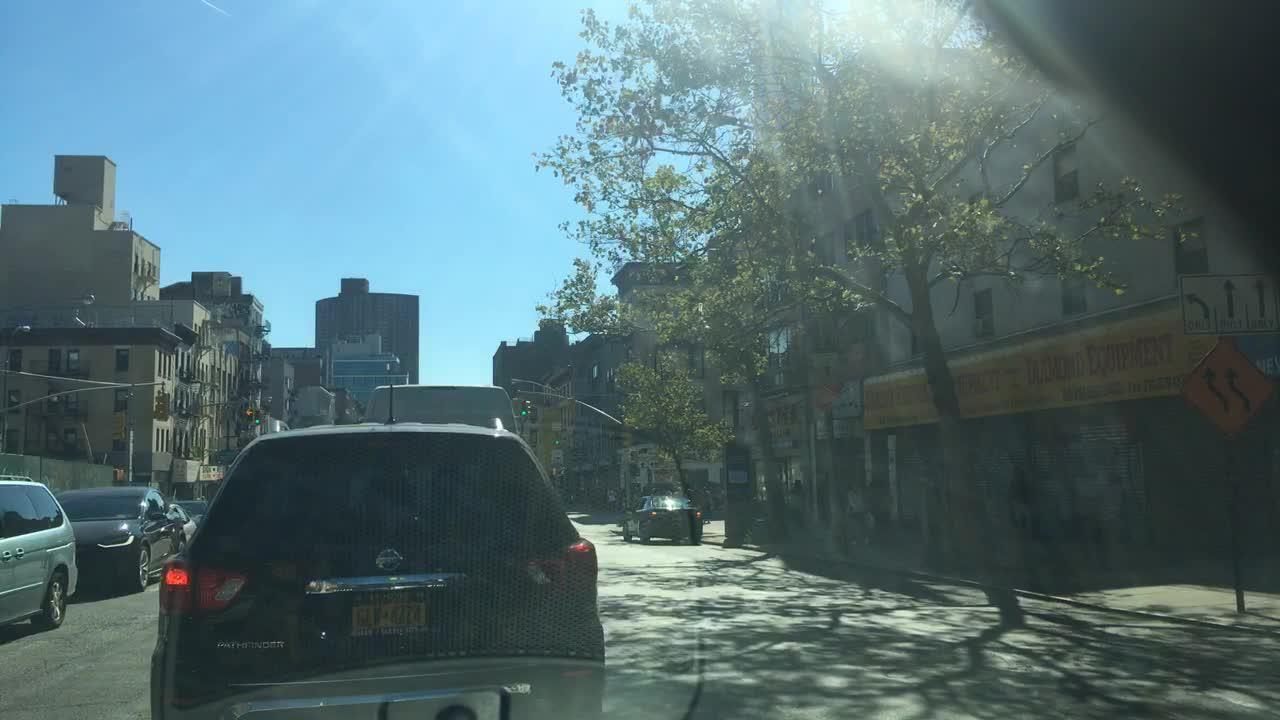Nissan: (370, 543, 408, 577)
